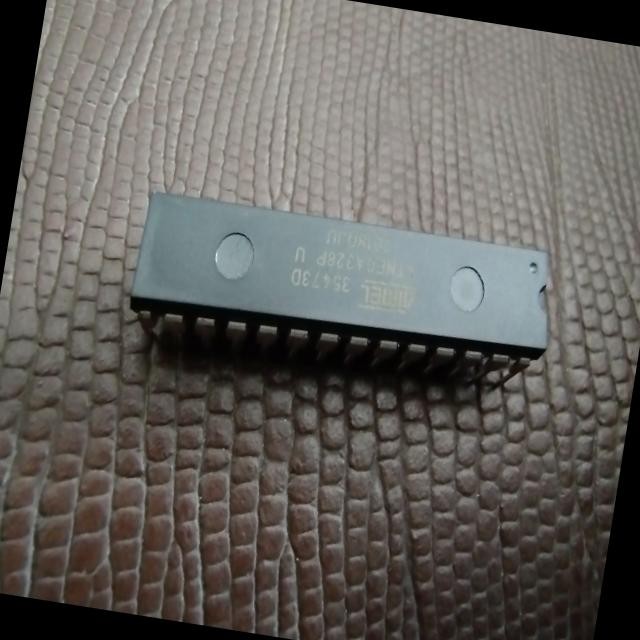atmega: (122, 183, 564, 394)
